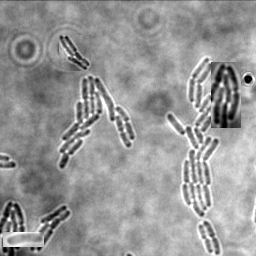Dividing: (204, 219, 222, 255), (199, 223, 215, 253)
Microcolony: (167, 57, 238, 216), (59, 75, 136, 169), (211, 62, 241, 128), (30, 204, 72, 251), (1, 200, 26, 255), (59, 35, 91, 71), (3, 232, 44, 247)
